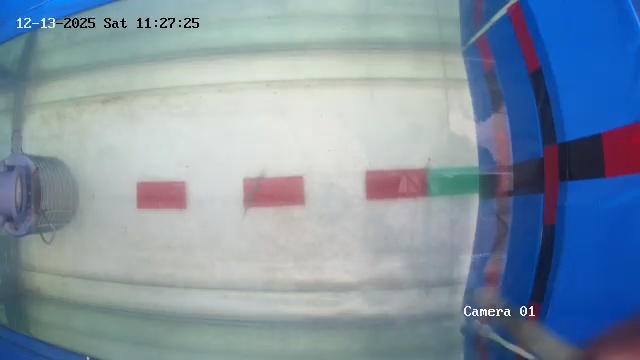fish: (227, 192, 263, 249)
